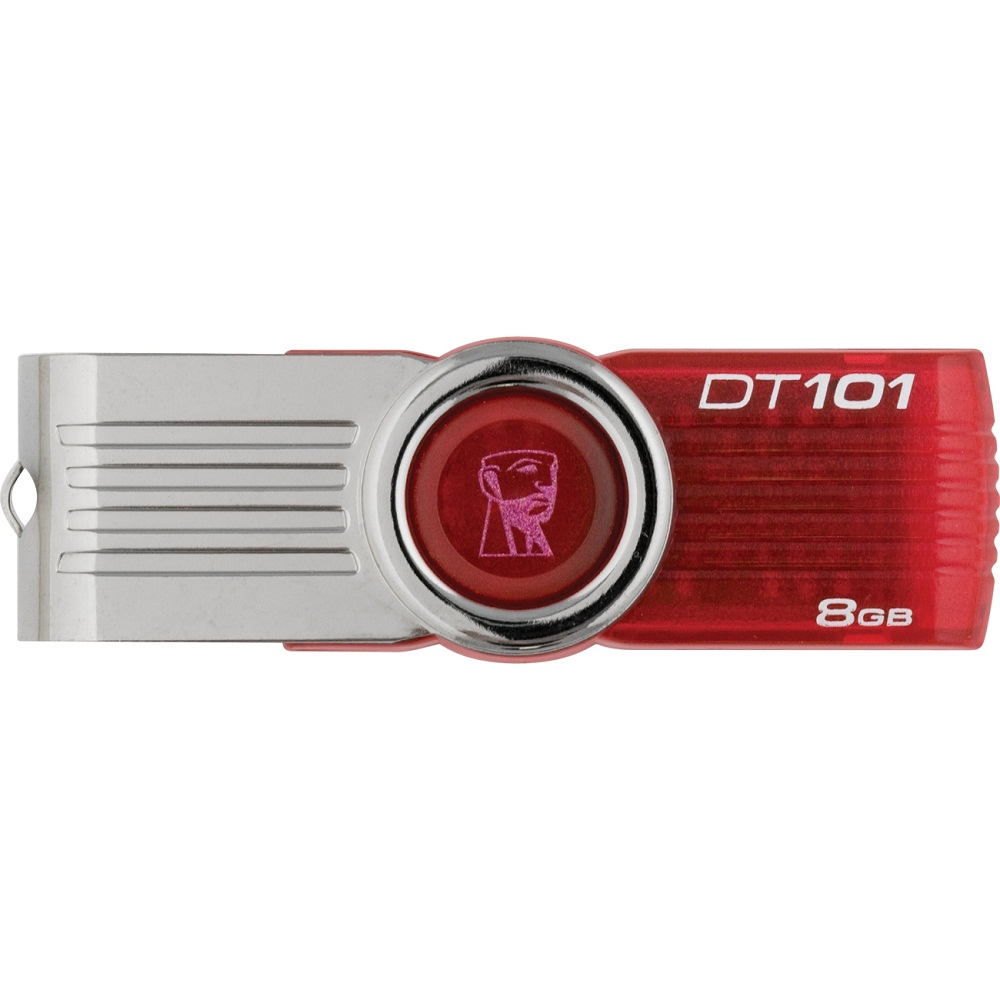Kingston: (464, 432, 564, 570)
